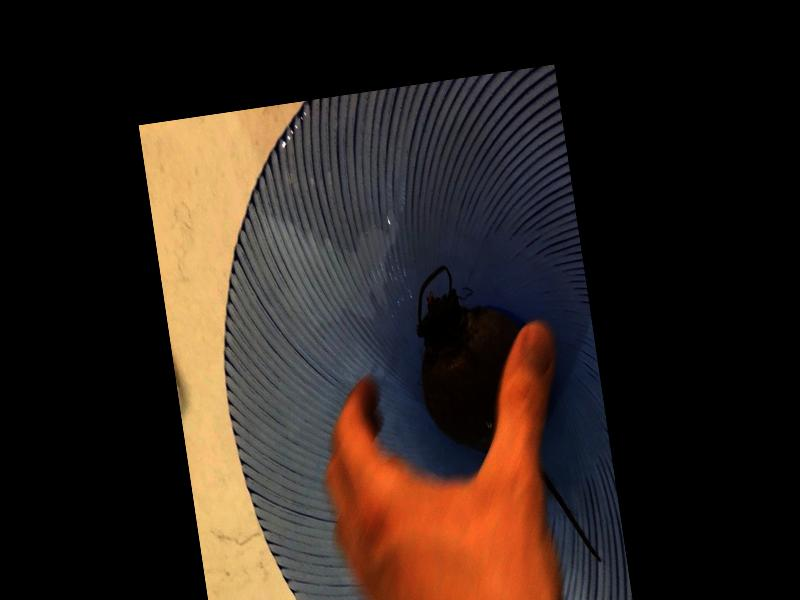Beet: (405, 249, 600, 582)
